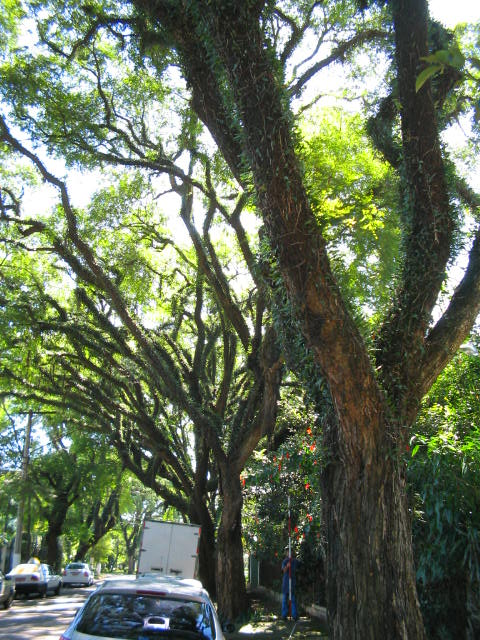stem: (303, 443, 437, 638), (213, 479, 261, 621)
stick: (283, 494, 299, 622)
tree: (138, 1, 478, 637), (24, 83, 285, 626)
